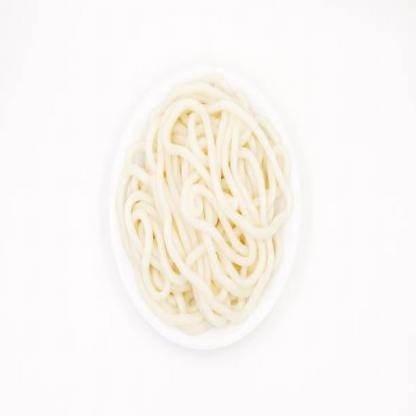Noodles: (115, 78, 294, 334)
